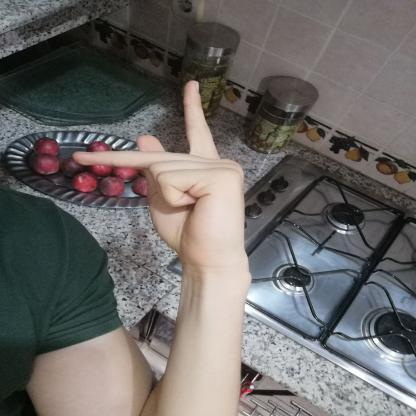DHAA: (60, 72, 254, 273)
